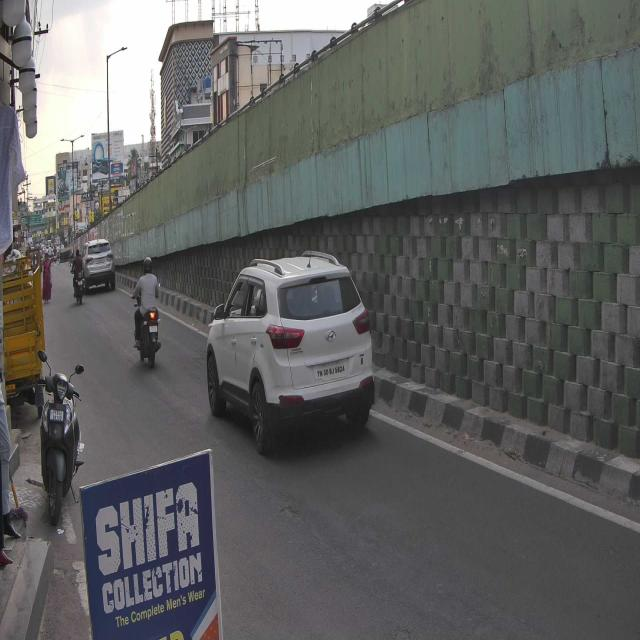single_rider: (131, 255, 162, 372)
